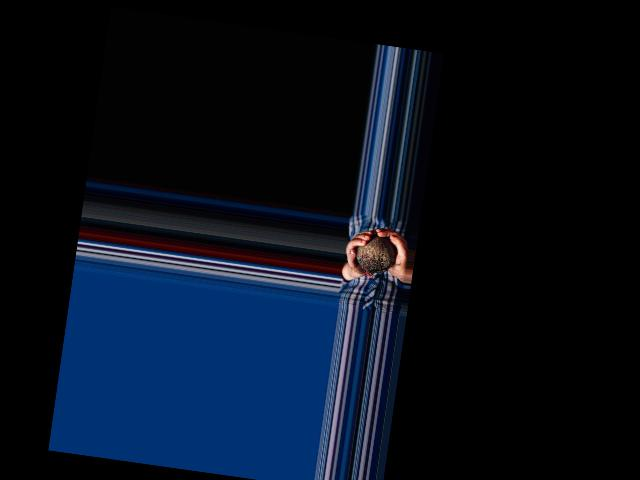beet: (353, 233, 398, 282)
